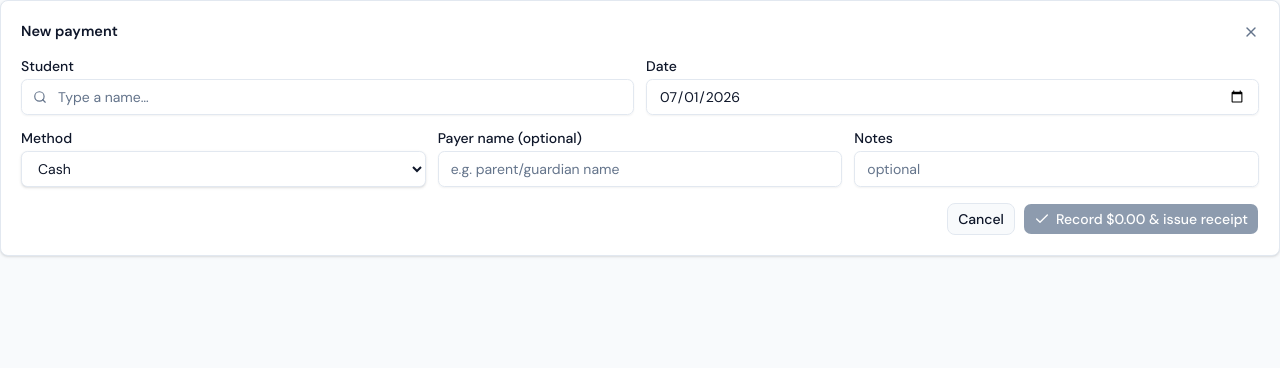
Scenario: NewPaymentForm — credit (no outstanding) flow › students with no outstanding lines see a Credit amount field instead
In the field labelled "Student": (328, 97) [21,79,634,115], type "Tariro"
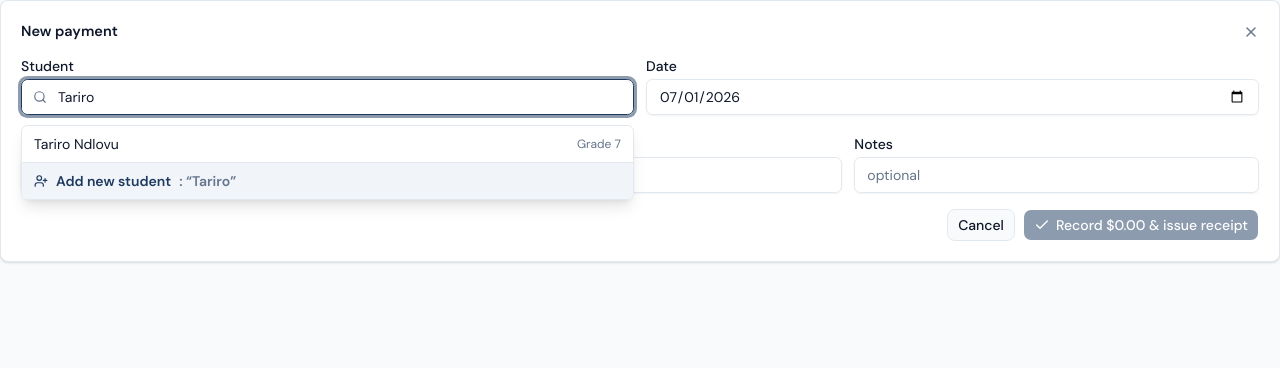
Click the button "Tariro Ndlovu Grade 7": (76, 144) [22,126,633,162]
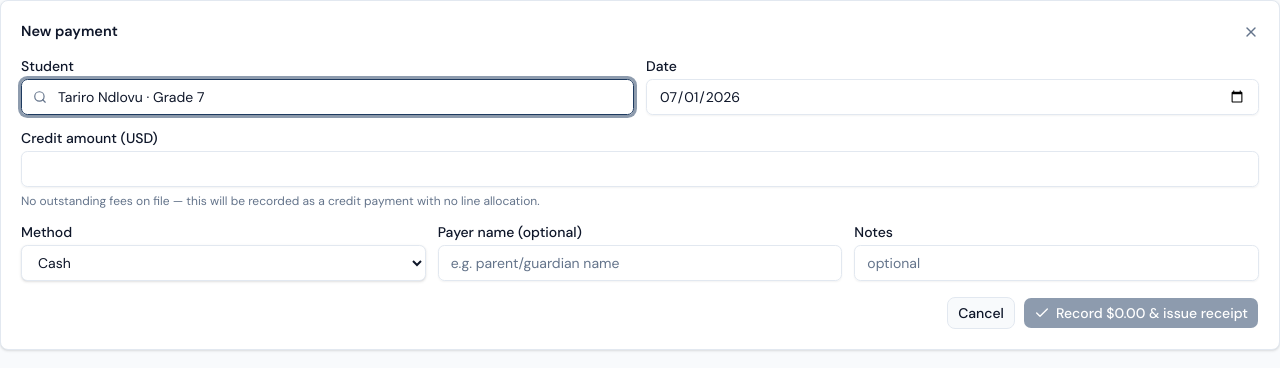
Now the number field labelled "Credit amount (USD)" is shown, box [21,151,1259,187]
